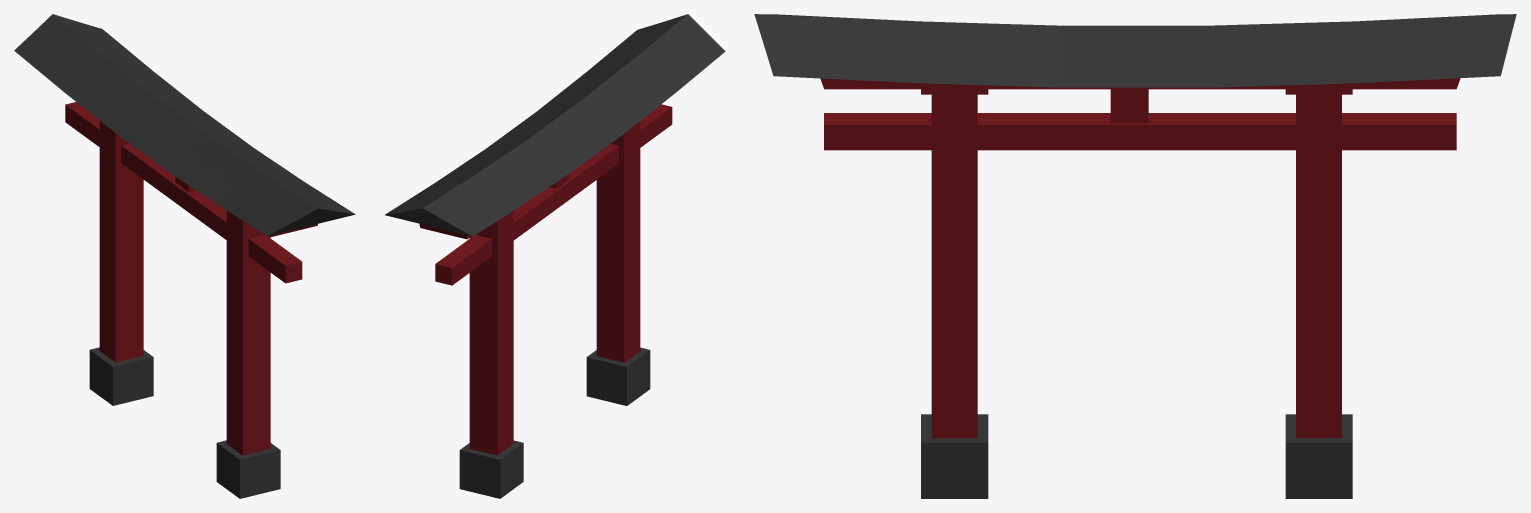
Rendered from Arco.fbx.
3 renders of one model, left to right at view 1: azimuth 30°, elevation 25°; view 2: azimuth 150°, elevation 25°; view 3: azimuth 270°, elevation 25°, orthographic. The views are drawn at different scales.
Parts seen in each view (by area): view 1: Cube.082; view 2: Cube.082; view 3: Cube.082.
Boxes of the visible parts, <box> form: Cube.082: <box>14,14,355,498</box>; Cube.082: <box>385,14,725,498</box>; Cube.082: <box>754,14,1516,498</box>.
Size of the model in its own units: 170 by 602 by 884.
